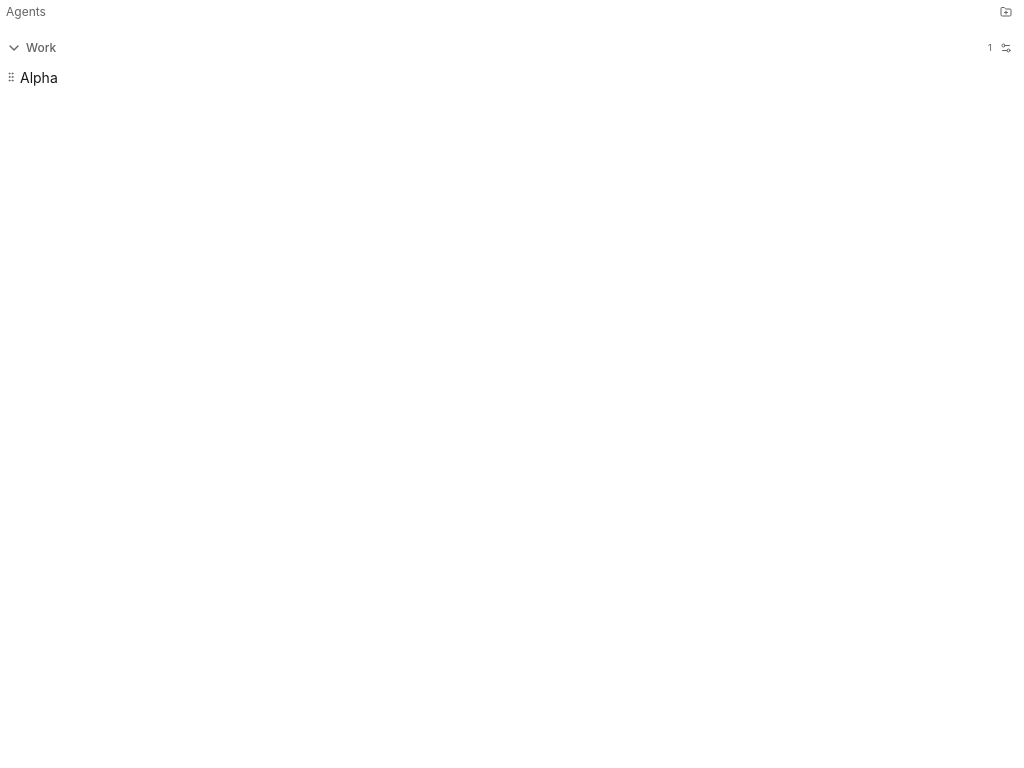
Test case: Agent sidebar organization › preserves filtered-out agents when moving a search result
Expected: the button named "Add section" is enabled, left=994, top=0, right=1018, bottom=24
Click the button named "Move Alpha". click: x=11, y=77
box: left=2, top=65, right=20, bottom=89
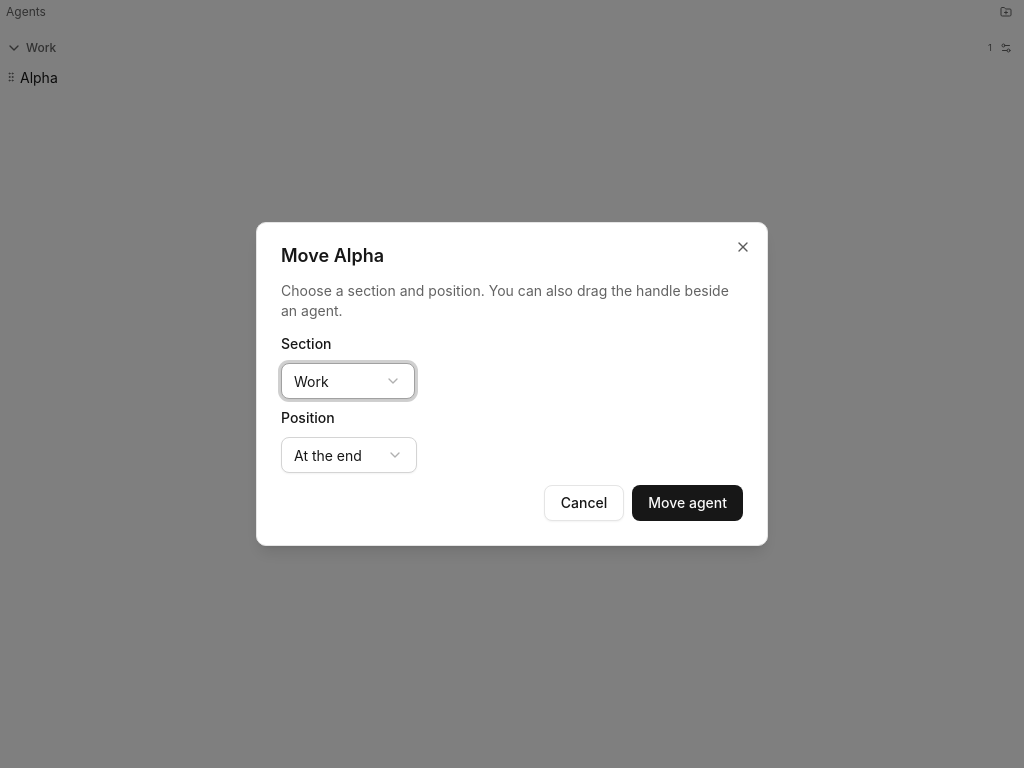
Select "Personal" in the dropdown labelled "Section". click: x=348, y=381
box: left=281, top=363, right=415, bottom=399
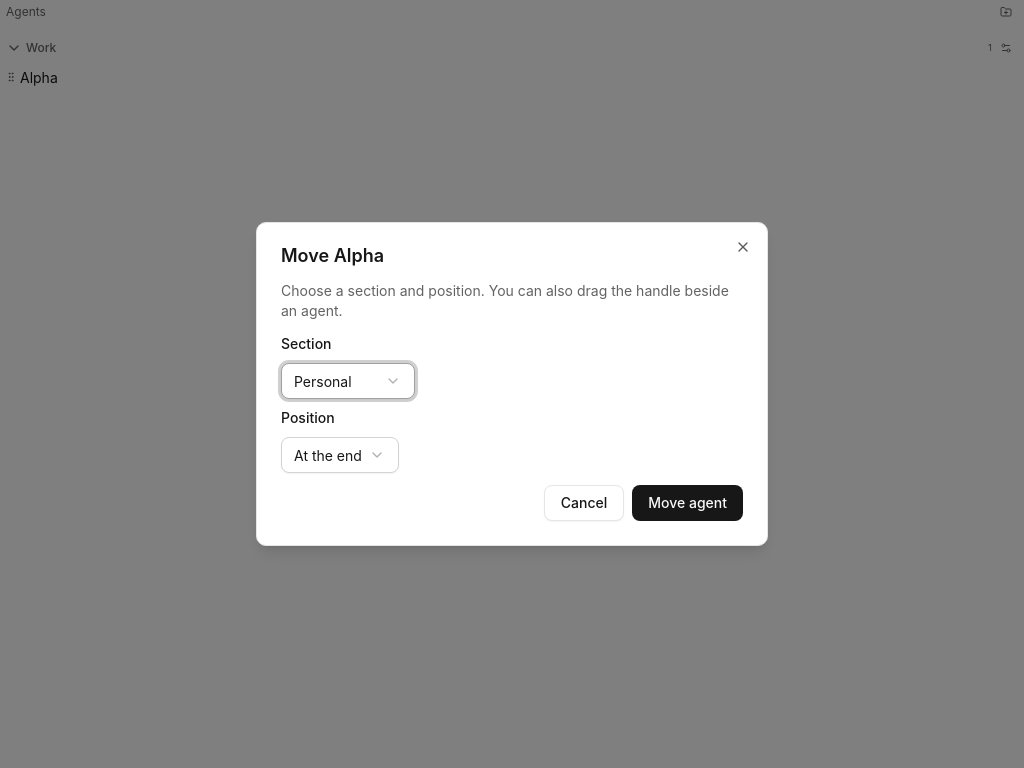
Click the button "Move agent". click: x=688, y=503
box: left=632, top=485, right=743, bottom=521
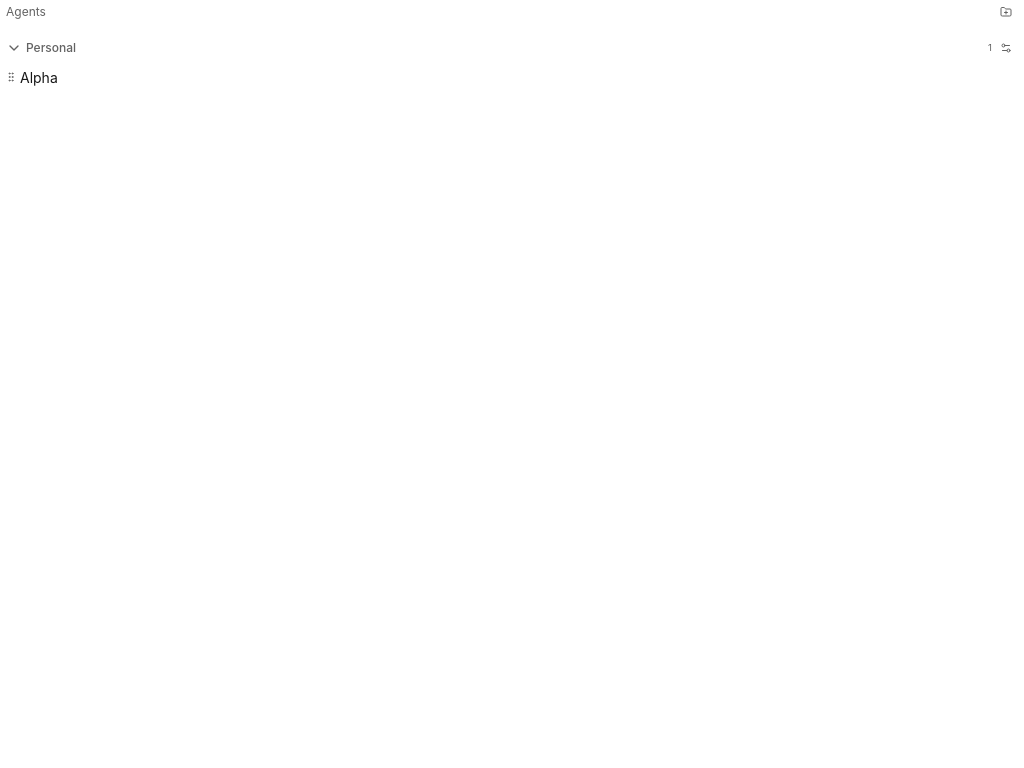
Expected: the dialog is gone
